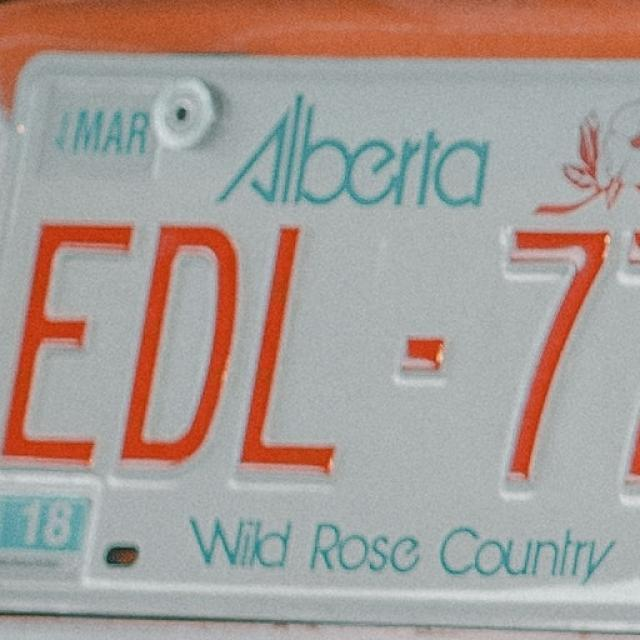license_plate: (1, 38, 640, 630)
